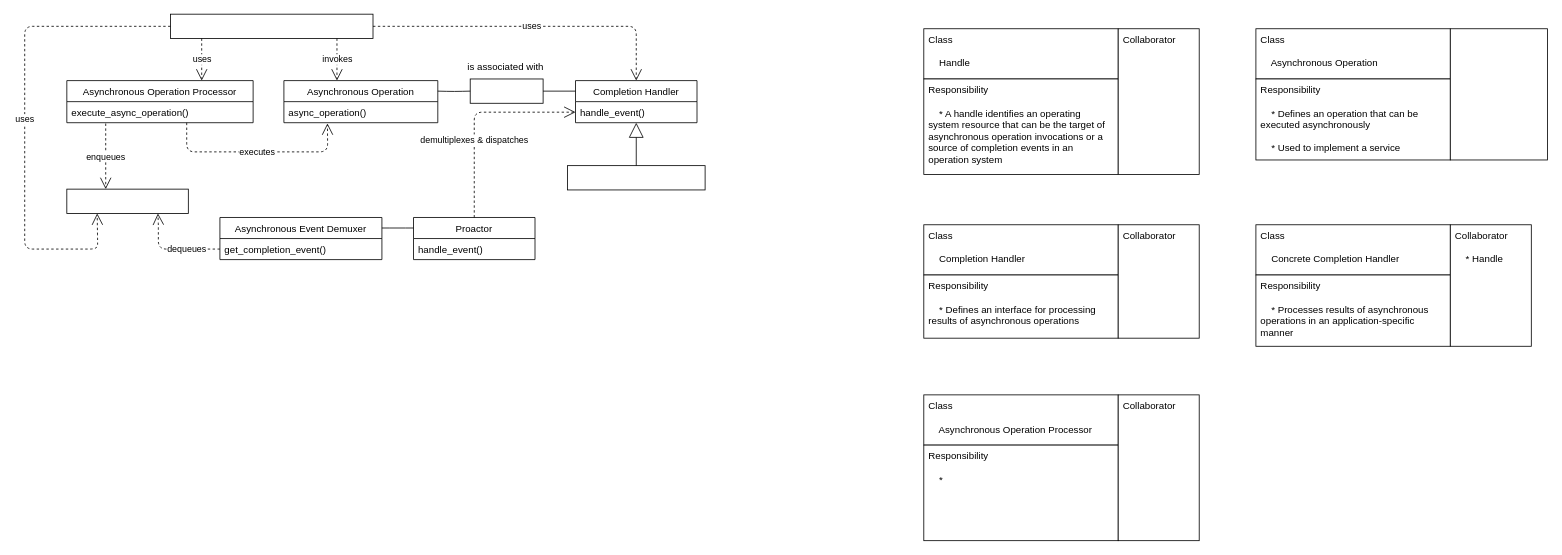
Some shapes in this 1562 by 555 pixel diagram are drawn without their labels. The centre of each missing label's shape, as x and y in pixels:
Collaborator * Handle * Asynchronous Operation Processor: [1498,94]
Completion Event Queue: [127,200]
Concrete Completion Handler: [636,177]
Handle: [506,90]
Initiator: [271,25]
